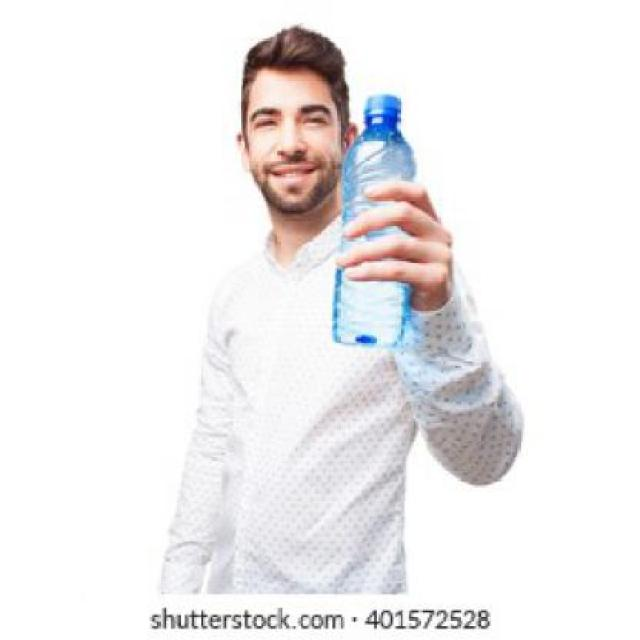Drinking: (338, 85, 422, 362)
